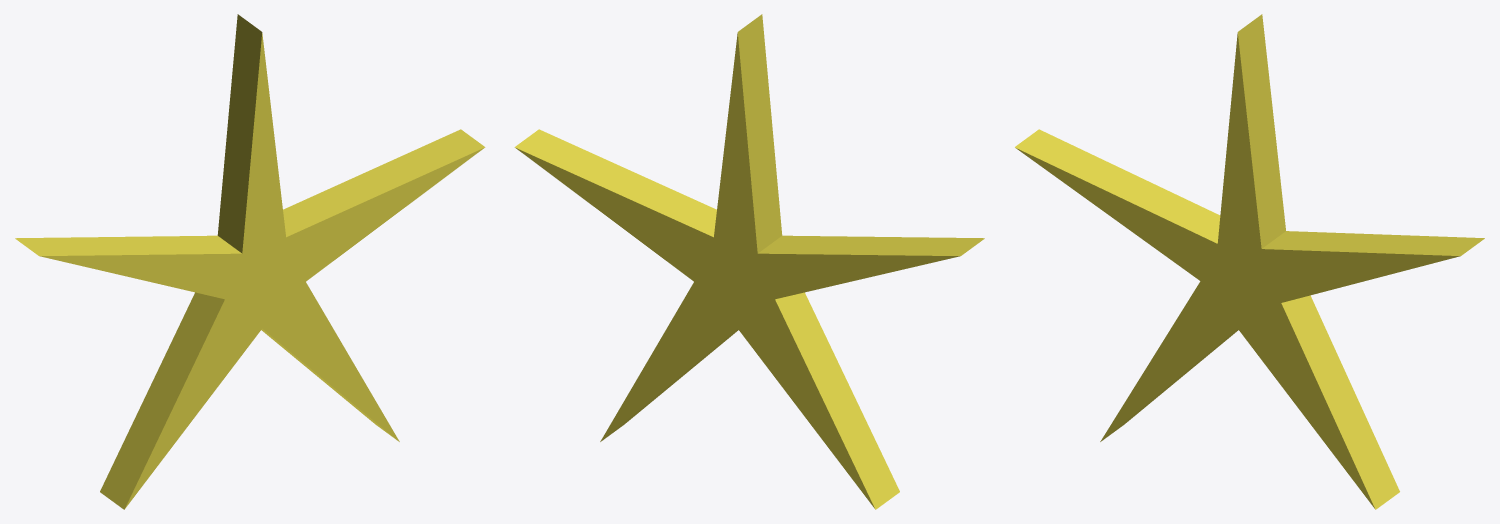
File: star1.gltf
3 renders of one model, left to right at view 1: azimuth 30°, elevation 25°; view 2: azimuth 150°, elevation 25°; view 3: azimuth 330°, elevation 25°, orthographic.
Parts seen in each view (by area): view 1: Cylinder.001; view 2: Cylinder.001; view 3: Cylinder.001.
Boxes of the visible parts, x1,y1,x2,y2 form: Cylinder.001: (15,14,485,509); Cylinder.001: (514,14,984,509); Cylinder.001: (1015,14,1484,509).
Bounding box in the file's own units: 0.9701 × 0.9226 × 0.0925.
